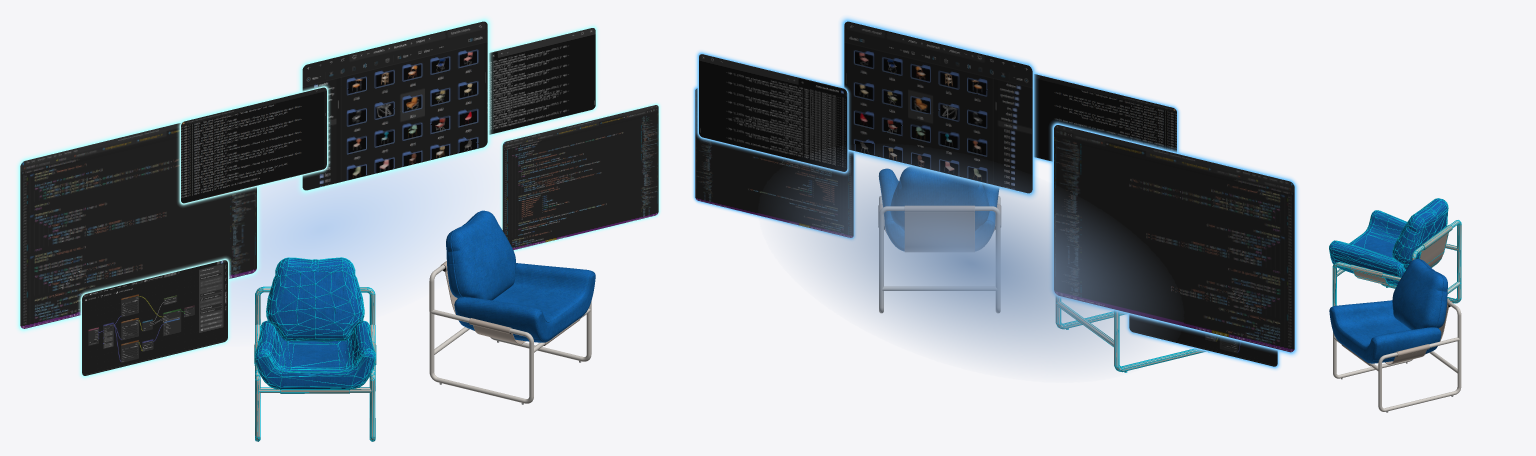
The model's file is development.glb.
3 renders of one model, left to right at view 1: azimuth 30°, elevation 25°; view 2: azimuth 150°, elevation 25°; view 3: azimuth 270°, elevation 25°, orthographic. The views are drawn at different scales.
Visible parts, largest first — view 1: Window Code, Window Explorer, Plane, Window Code.001, 2987238, chair47820.001, Window Terminal, Window Terminal.001, Window Terminal.002, chair47820.002; view 2: Plane, Window Code, Window Explorer, Window Terminal.002, Window Code.001, 2987238, Window Terminal, Window Terminal.001, chair47820.002, chair47820.001; view 3: 2987238, chair47820.001, chair47820.002.
Boxes of the visible parts, x1,y1,x2,y2 form: Window Code: (16, 102, 260, 332); Window Explorer: (298, 17, 491, 194); Plane: (229, 151, 499, 332); Window Code.001: (500, 102, 660, 252); 2987238: (429, 210, 595, 404); chair47820.001: (254, 258, 375, 441); Window Terminal: (178, 84, 329, 206); Window Terminal.001: (79, 257, 230, 378); Window Terminal.002: (489, 24, 598, 136); chair47820.002: (254, 257, 376, 441); Plane: (785, 158, 1157, 367); Window Code: (1050, 121, 1298, 355); Window Explorer: (840, 17, 1036, 197); Window Terminal.002: (696, 51, 849, 174); Window Code.001: (693, 86, 855, 239); 2987238: (878, 167, 1001, 313); Window Terminal: (1034, 71, 1179, 163); Window Terminal.001: (1126, 314, 1280, 369); chair47820.002: (1055, 298, 1209, 372); chair47820.001: (1056, 297, 1203, 372); 2987238: (1329, 258, 1461, 412); chair47820.001: (1329, 198, 1461, 305); chair47820.002: (1329, 198, 1461, 306).
Bounding box in the file's own units: 3.81 × 1.83 × 1.29.
Materials: 10 (9 with a texture image).
